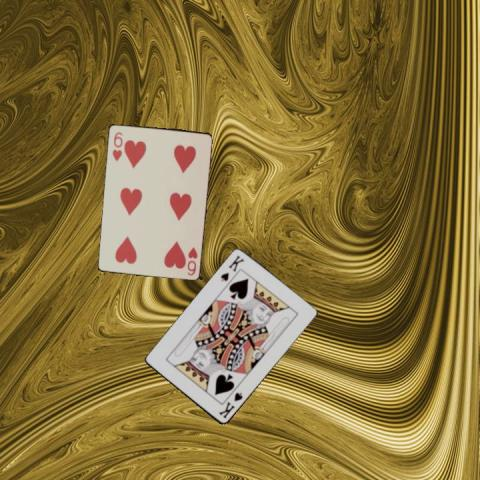6h: (109, 128, 124, 162), (184, 244, 198, 277)
Ks: (216, 390, 244, 420), (218, 253, 246, 283)
